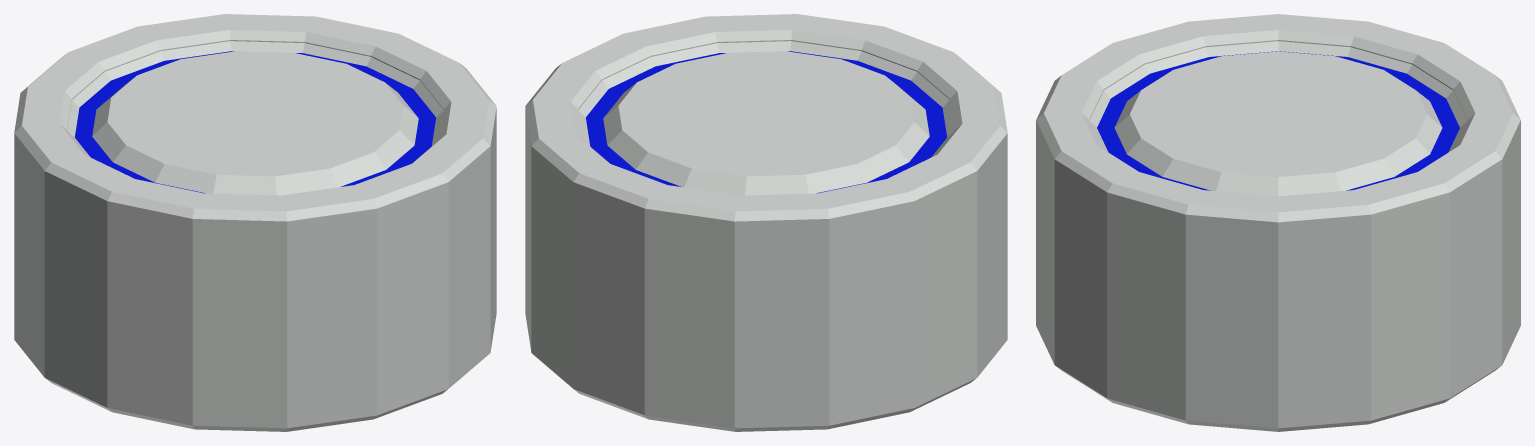
File: SpawnPlatform.fbx
The picture shows the model from 3 angles, left to right: view 1: azimuth 30°, elevation 25°; view 2: azimuth 150°, elevation 25°; view 3: azimuth 270°, elevation 25°; orthographic projection.
Parts seen in each view (by area): view 1: SpawnBase; view 2: SpawnBase; view 3: SpawnBase.
Part boxes in pixels (<box>): SpawnBase: <box>14,14,496,431</box>; SpawnBase: <box>525,14,1007,431</box>; SpawnBase: <box>1036,14,1520,431</box>.
Bounding box in the file's own units: 200 × 100 × 200.
